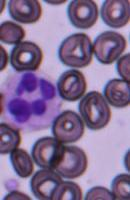N: (1, 69, 62, 132)
